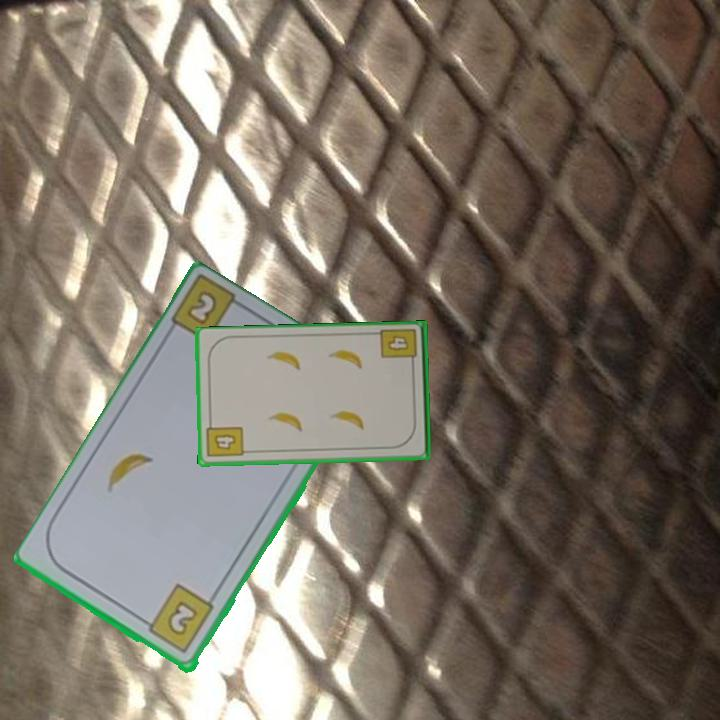2b: (138, 581, 217, 657), (186, 290, 217, 325)
4b: (377, 326, 420, 370), (203, 417, 246, 460)
